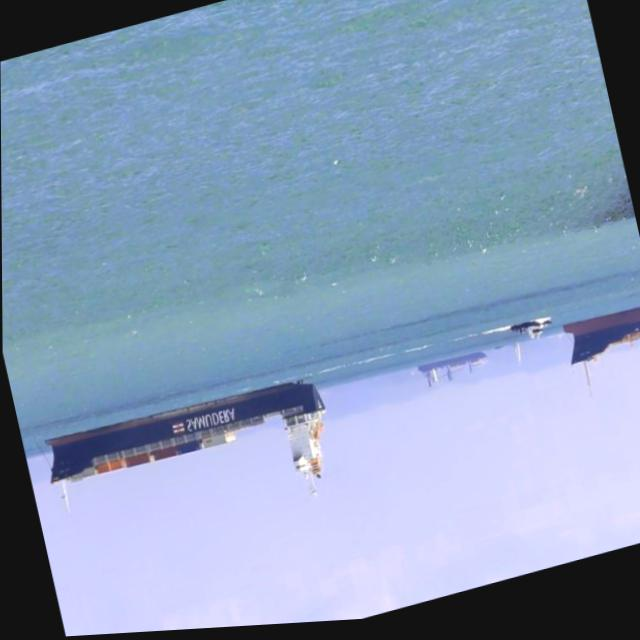ship2: (44, 382, 324, 516), (417, 356, 489, 392), (511, 322, 552, 346)
